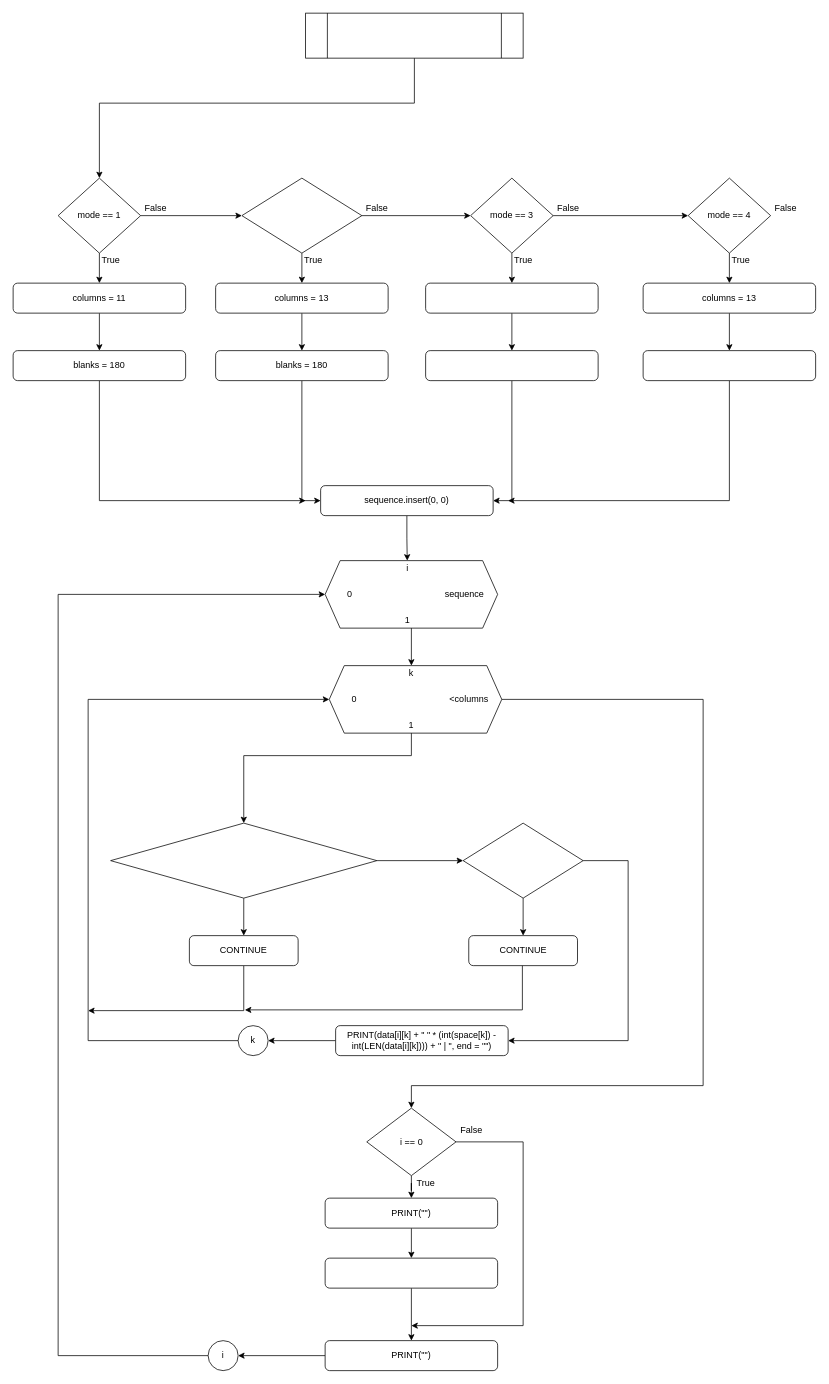
Image size: 829x1384. Some labels were removed from this diagram. Here are the shapes that lost their labels. From the top down, the centre of each, then its label:
(x=414, y=35): FUNCTION print_sorttable(data, mode, sequence, space)
(x=301, y=215): mode == 2
(x=511, y=297): columns = 19
(x=511, y=365): blanks = 302
(x=729, y=365): blanks = 143
(x=243, y=860): mode == 4 AND (k == 5 OR k == 6 OR k ==7 OR k == 8 )
(x=522, y=860): mode == 1 AND k == 3
(x=411, y=1272): PRINT("-" * blanks, end = "")
